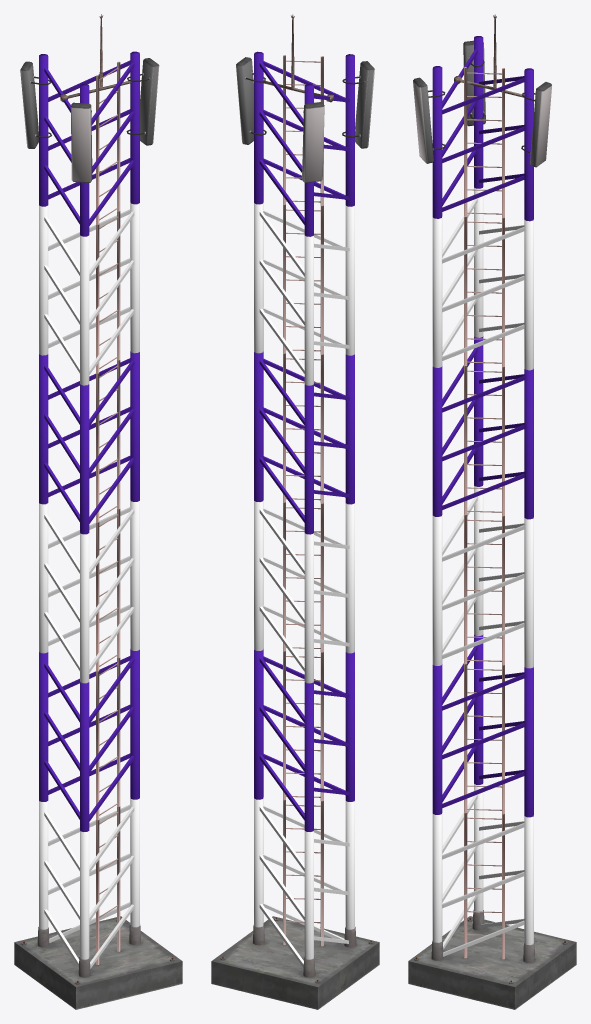
Rendered from tower.glb.
3 views of the same model, side by side, from view 1: azimuth 30°, elevation 25°; view 2: azimuth 150°, elevation 25°; view 3: azimuth 330°, elevation 25° (orthographic).
Parts seen in each view (by area): view 1: tower; view 2: tower; view 3: tower.
Boxes of the visible parts, x1,y1,x2,y2 form: tower: (14,14,182,1009); tower: (211,14,379,1009); tower: (408,14,576,1009).
Bounding box in the file's own units: 1.54 × 12.9 × 1.53.
6 materials, 6 textured.
